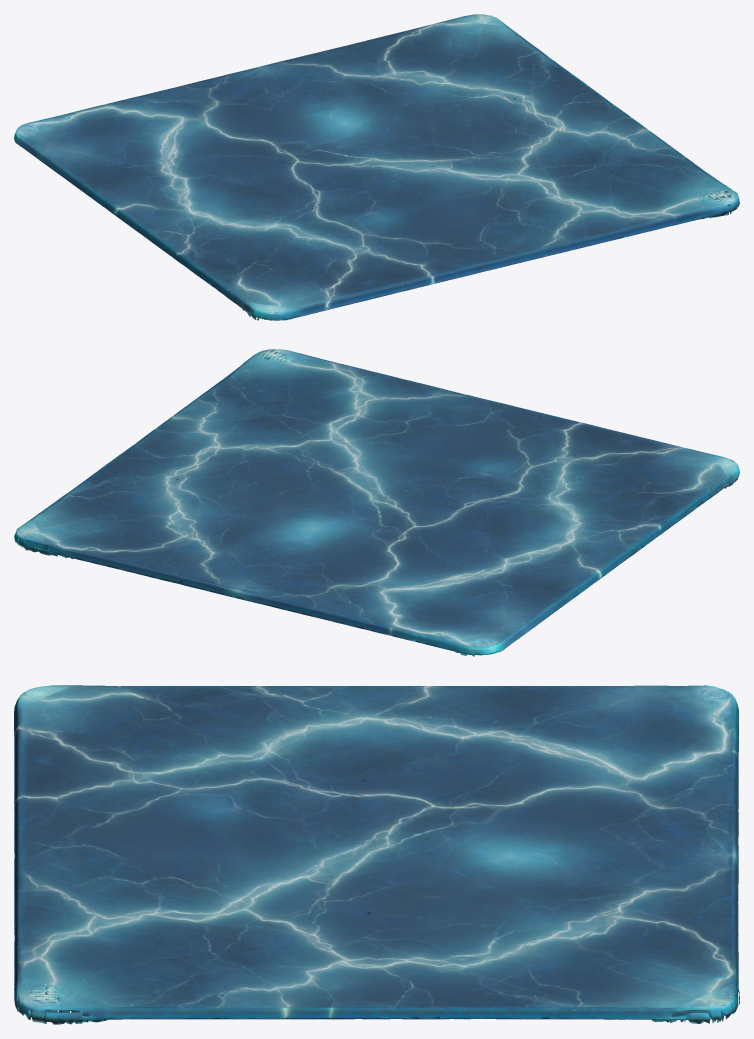
The model's file is Meshy_AI_a_flat_electric_tile_1115233139_texture.glb.
3 views of the same model, one above another, from view 1: azimuth 30°, elevation 25°; view 2: azimuth 150°, elevation 25°; view 3: azimuth 270°, elevation 25° (orthographic). The views are drawn at different scales.
Size of the model in its own units: 1.97 by 0.0539 by 1.84.
Materials: 1 (1 with a texture image).
